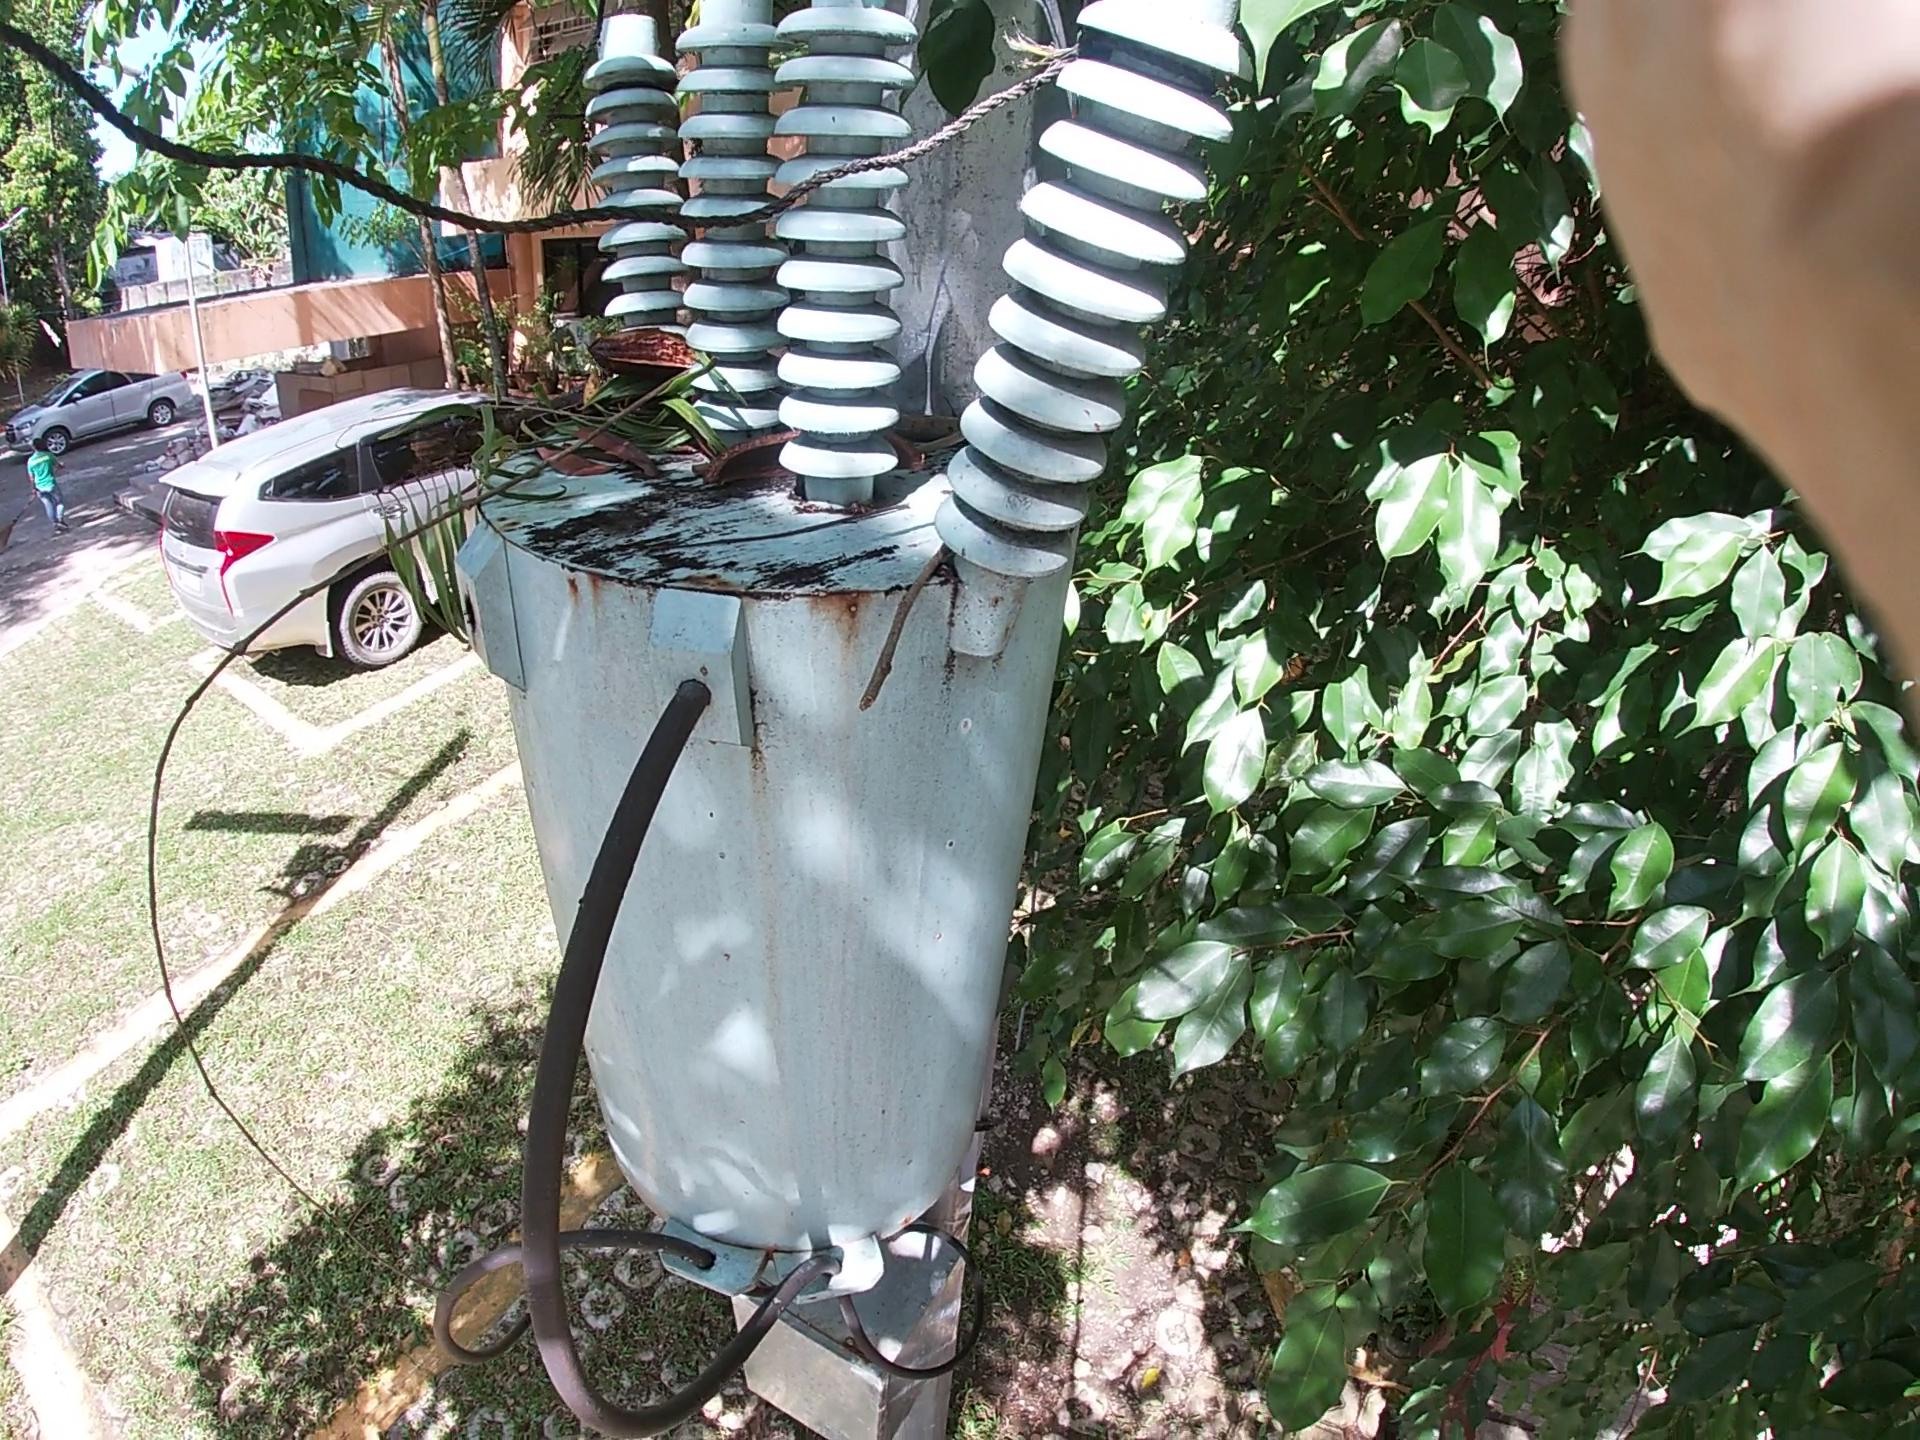branch with leaves: (395, 266, 748, 584)
leaf: (523, 399, 760, 549)
mahogany fruit: (584, 277, 779, 484), (680, 374, 862, 526)
tree branch: (41, 349, 703, 1050), (828, 371, 1157, 725)
